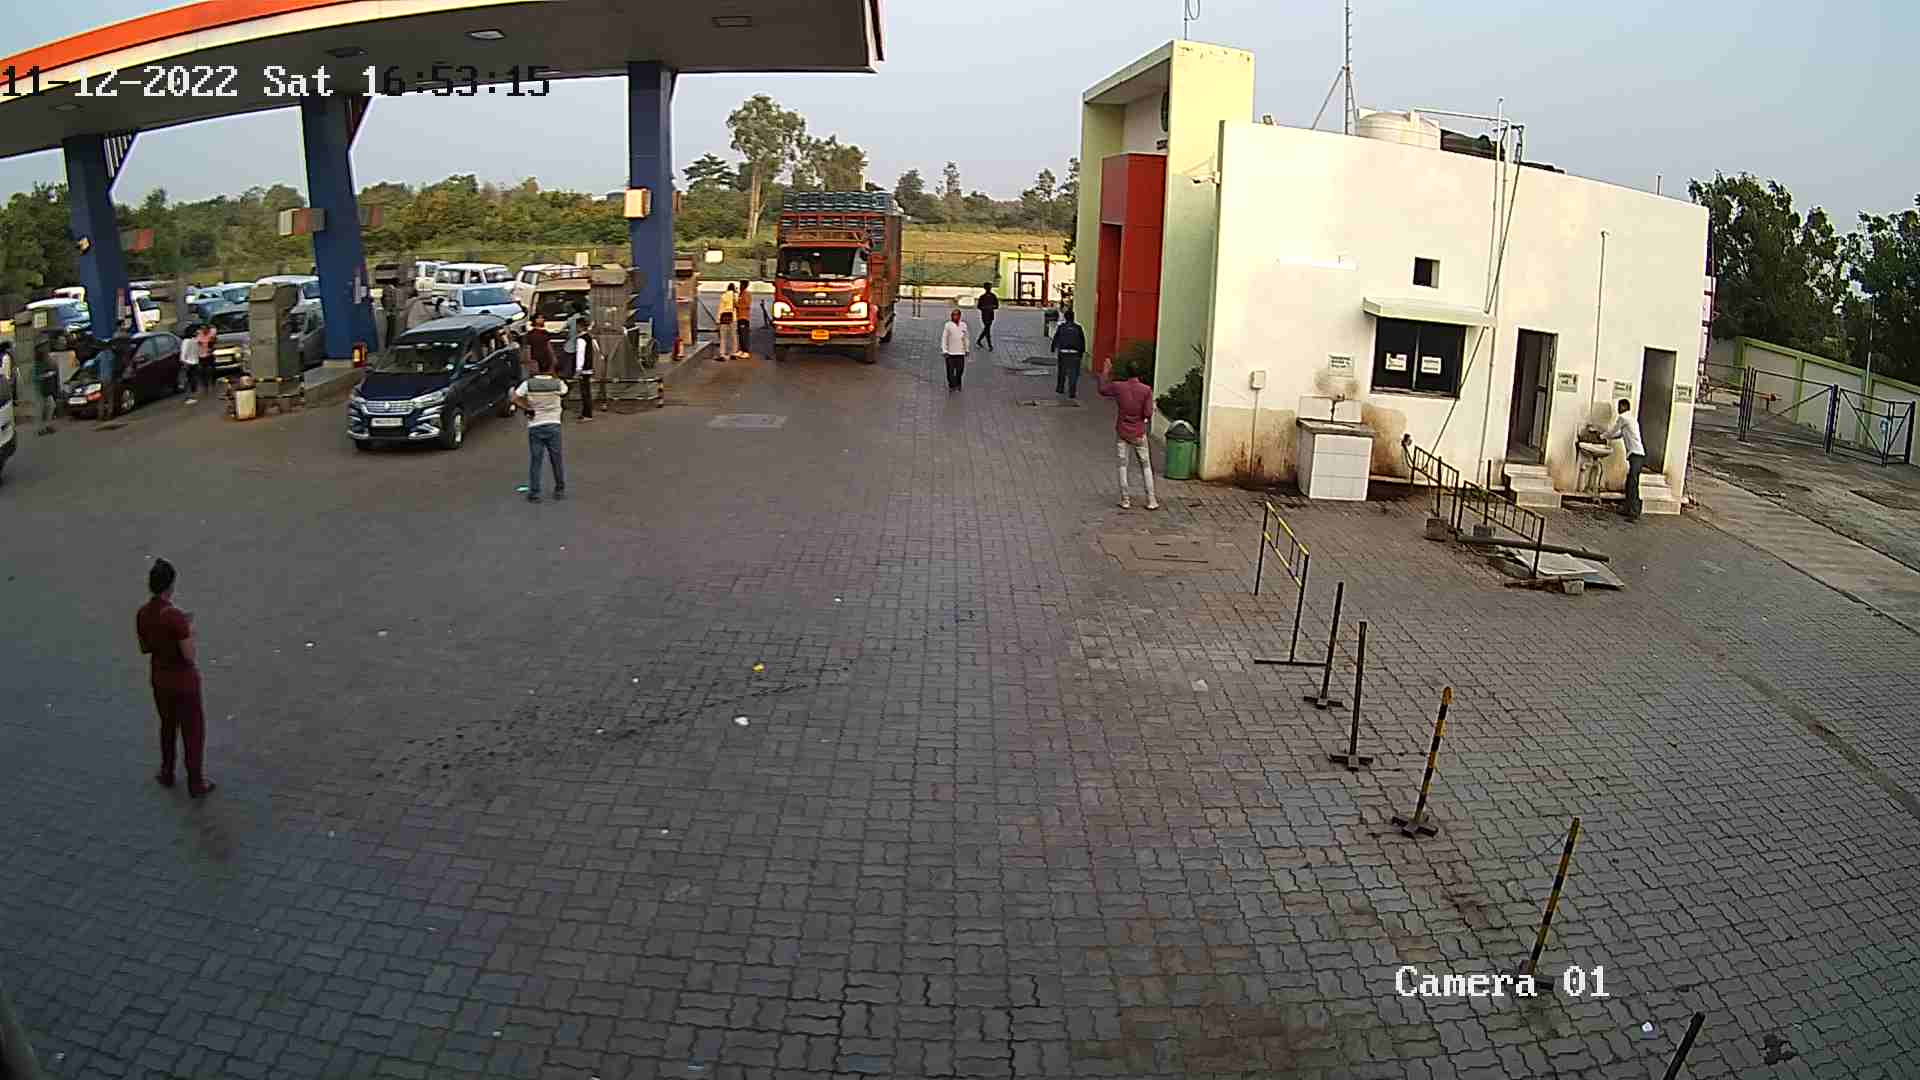Car: (339, 307, 546, 455), (49, 309, 200, 426), (520, 237, 601, 394), (433, 278, 530, 351), (195, 297, 258, 394), (0, 335, 34, 512), (281, 291, 335, 386), (425, 255, 516, 307), (251, 266, 323, 320), (15, 280, 94, 318), (125, 276, 167, 335), (409, 251, 451, 309)
HMV: (752, 179, 909, 367)
